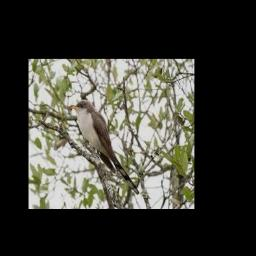Cuckoo: (71, 99, 140, 196)
